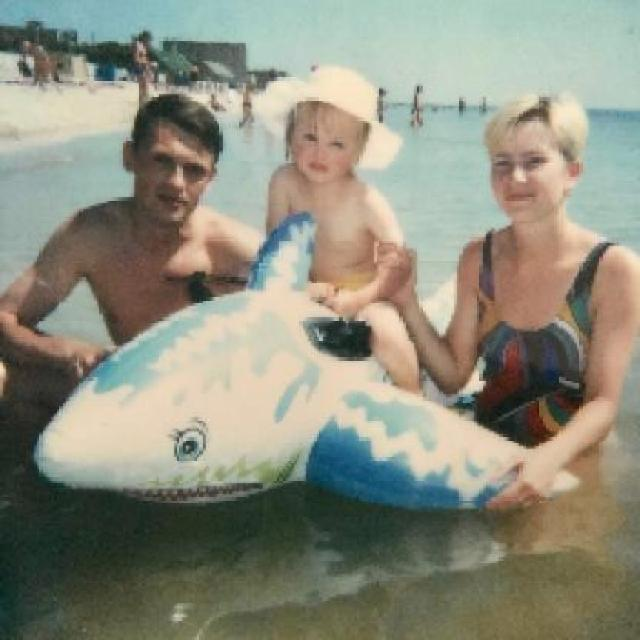child: (260, 62, 429, 398)
